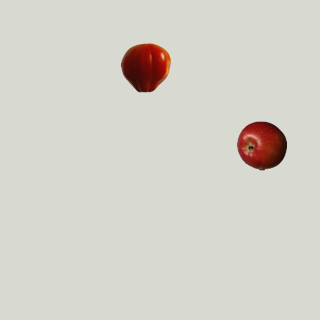Apple Braeburn: (236, 120, 286, 170)
Tomato 1: (120, 42, 170, 92)
